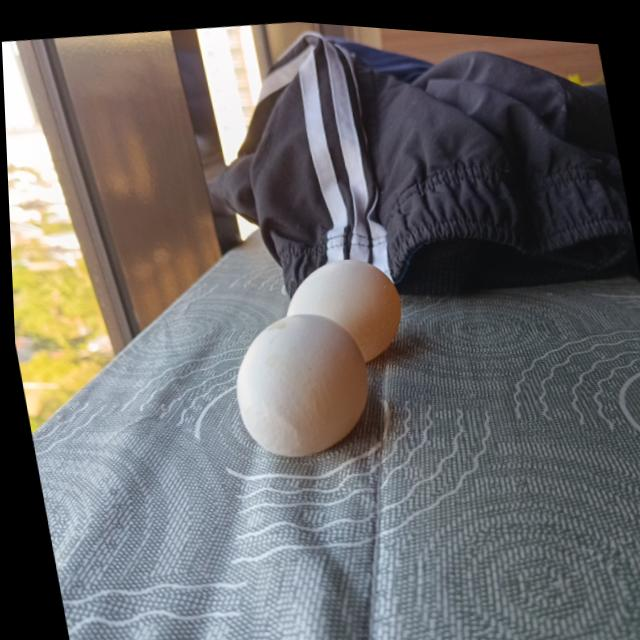egg: (223, 302, 380, 465), (276, 244, 409, 366)
